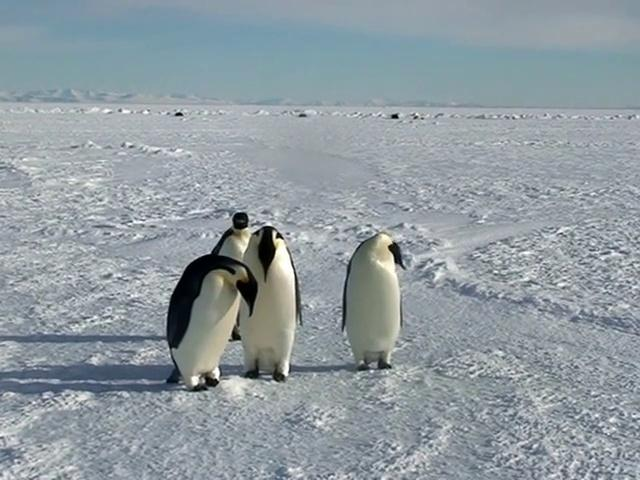animal: (342, 234, 405, 370)
